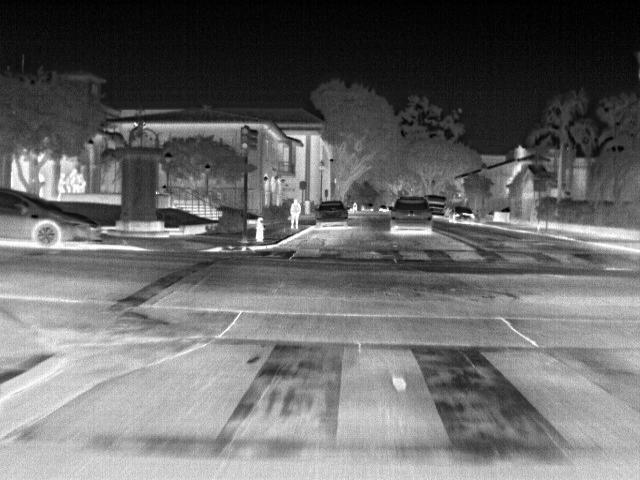car: (1, 188, 103, 250), (391, 196, 434, 232), (316, 199, 350, 229), (422, 194, 448, 218), (448, 206, 478, 225), (379, 203, 390, 214)
person: (288, 197, 304, 231)
